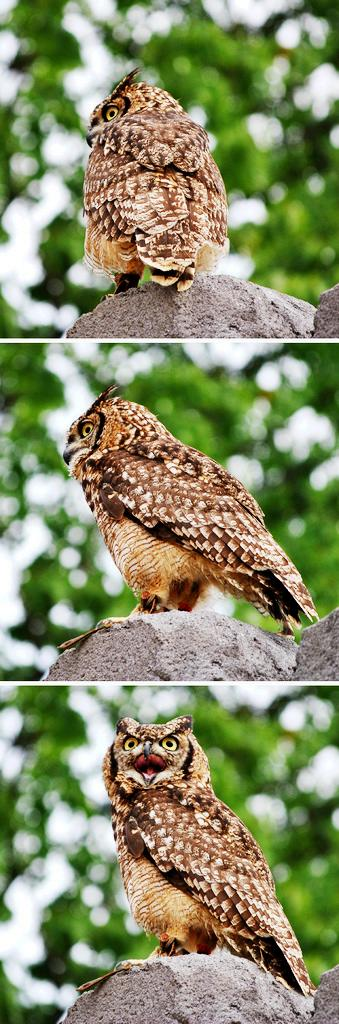Owl: (37, 386, 317, 673), (72, 690, 324, 1008), (72, 62, 237, 288)
